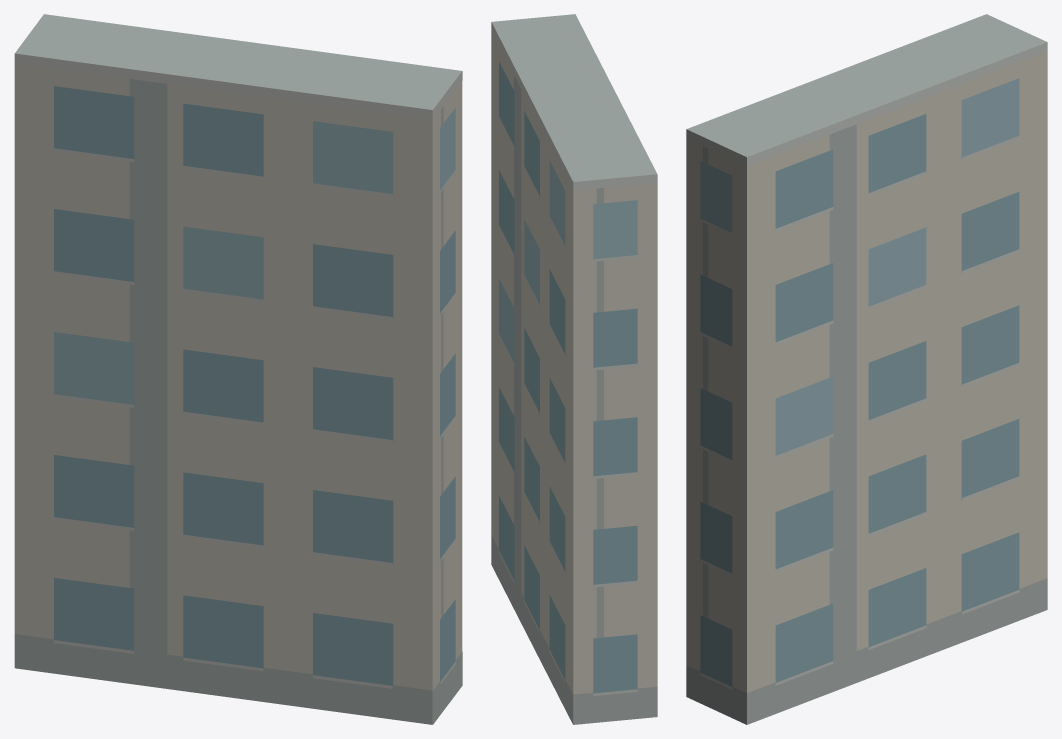
The model's file is survey-upis-32799487.glb.
3 views of the same model, side by side, from view 1: azimuth 30°, elevation 25°; view 2: azimuth 150°, elevation 25°; view 3: azimuth 270°, elevation 25° (orthographic). The views are drawn at different scales.
Parts seen in each view (by area): view 1: survey-upis-32799487.tmp; view 2: survey-upis-32799487.tmp; view 3: survey-upis-32799487.tmp.
Part boxes in pixels (bbox=[...]): survey-upis-32799487.tmp: bbox=[14, 14, 462, 724]; survey-upis-32799487.tmp: bbox=[491, 14, 657, 724]; survey-upis-32799487.tmp: bbox=[686, 14, 1047, 724].
Bounding box in the file's own units: 8.26 × 15.25 × 8.8.
